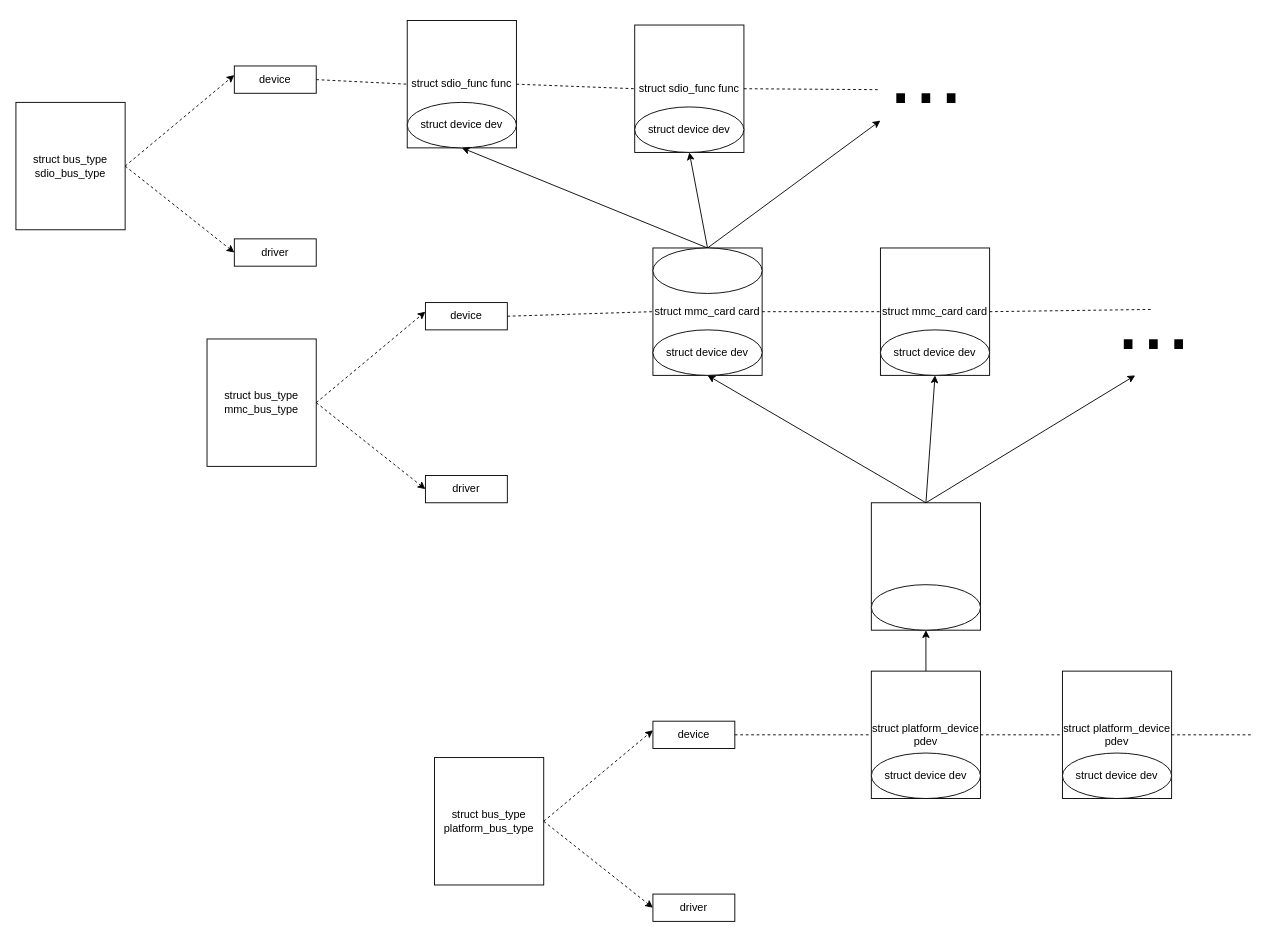
This 1270x937 diagram has some shape labels left out. Each missing label, with the box of its shape:
struct device classdev: (870, 584, 981, 630)
struct mmc_host host: (870, 502, 981, 630)
struct sdio_func *sdio_func[SDIO_MAX_FUNCS];: (652, 247, 762, 293)
